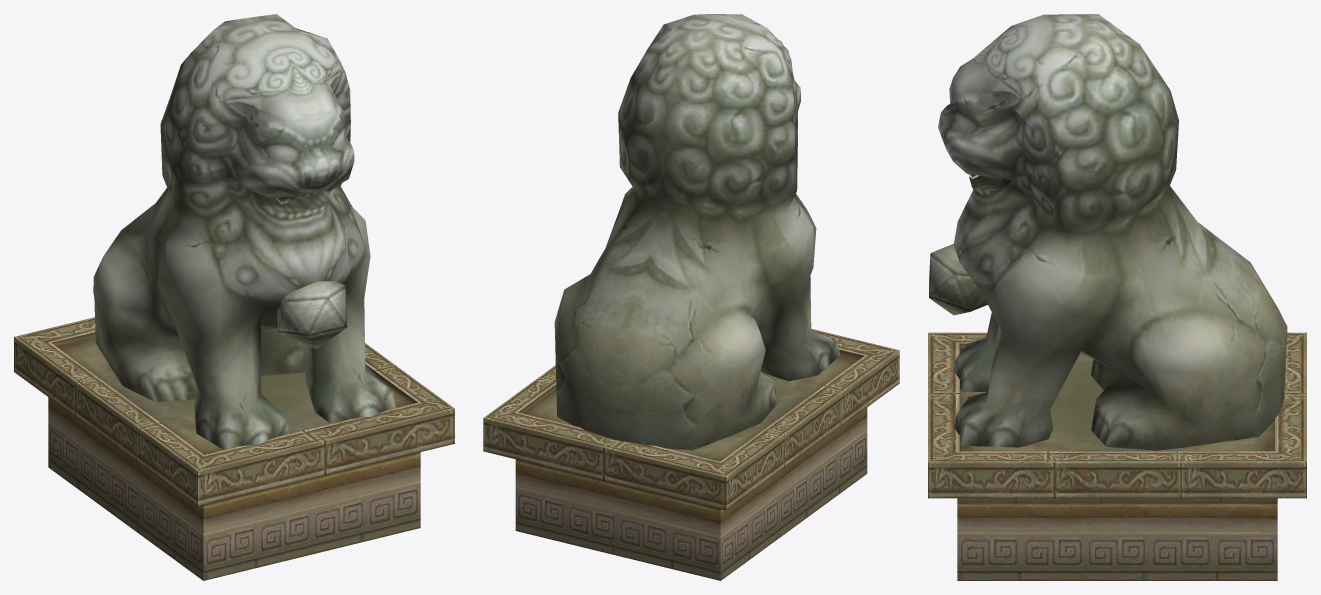
Rendered from environment_common_shishizi_001_a.FBX.
3 renders of one model, left to right at view 1: azimuth 30°, elevation 25°; view 2: azimuth 150°, elevation 25°; view 3: azimuth 270°, elevation 25°, orthographic. The views are drawn at different scales.
Visible parts, largest first — view 1: environment_common_shishizi_001_a, environment_common_shishizi_001_b, environment_common_shishizi_001_c; view 2: environment_common_shishizi_001_a, environment_common_shishizi_001_b, environment_common_shishizi_001_c; view 3: environment_common_shishizi_001_a, environment_common_shishizi_001_b, environment_common_shishizi_001_c.
Part boxes in pixels (bbox=[...]): environment_common_shishizi_001_a: bbox=[93, 14, 395, 449]; environment_common_shishizi_001_b: bbox=[14, 317, 454, 580]; environment_common_shishizi_001_c: bbox=[56, 336, 412, 454]; environment_common_shishizi_001_a: bbox=[554, 14, 839, 450]; environment_common_shishizi_001_b: bbox=[483, 329, 899, 580]; environment_common_shishizi_001_c: bbox=[523, 354, 859, 461]; environment_common_shishizi_001_a: bbox=[929, 14, 1287, 450]; environment_common_shishizi_001_b: bbox=[928, 332, 1306, 580]; environment_common_shishizi_001_c: bbox=[960, 348, 1274, 451].
Bounding box in the file's own units: 102 × 184 × 126.
Materials: 3 (3 with a texture image).
